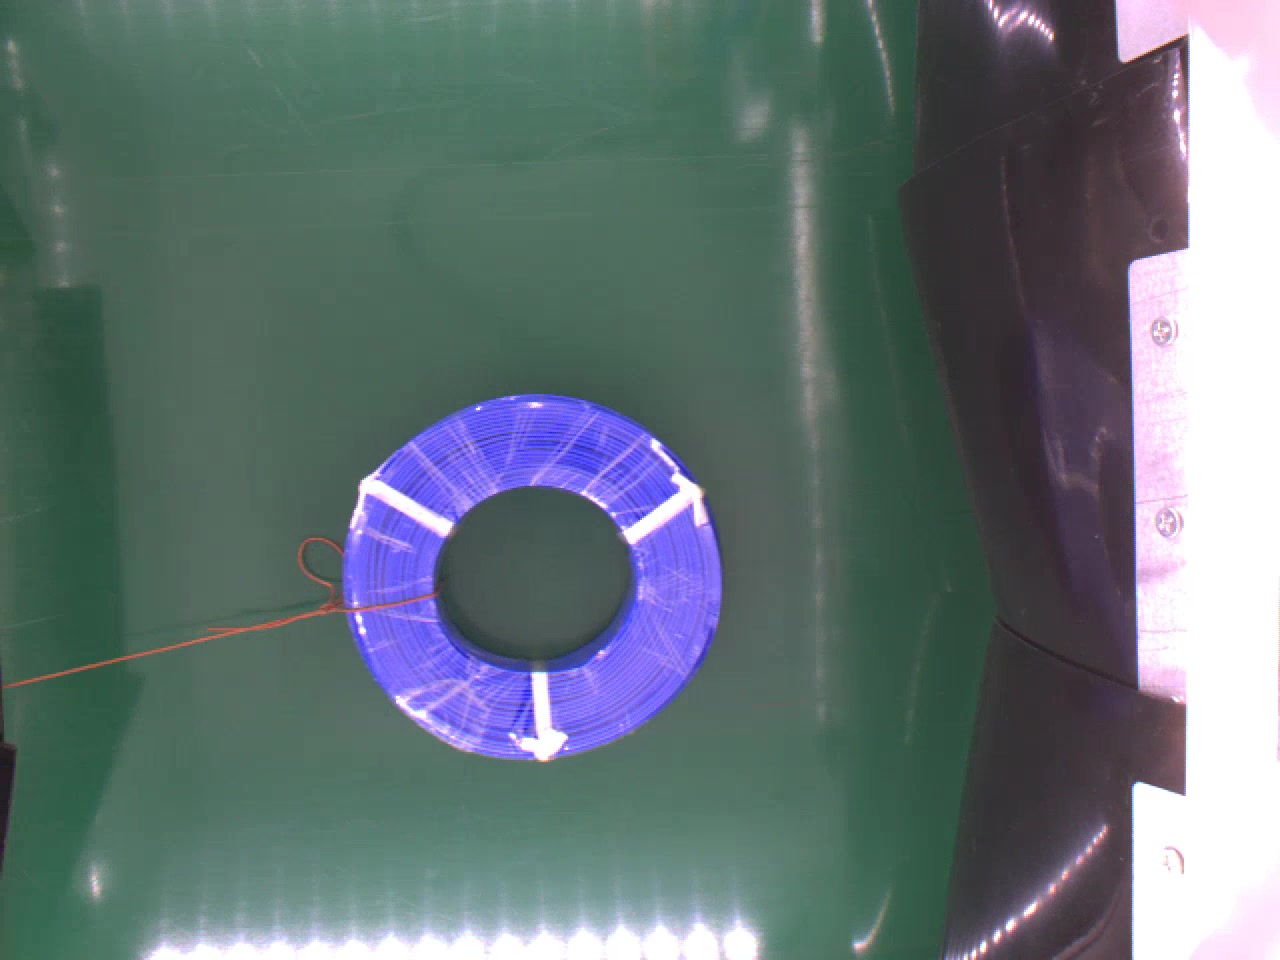blue: (333, 393, 726, 765)
